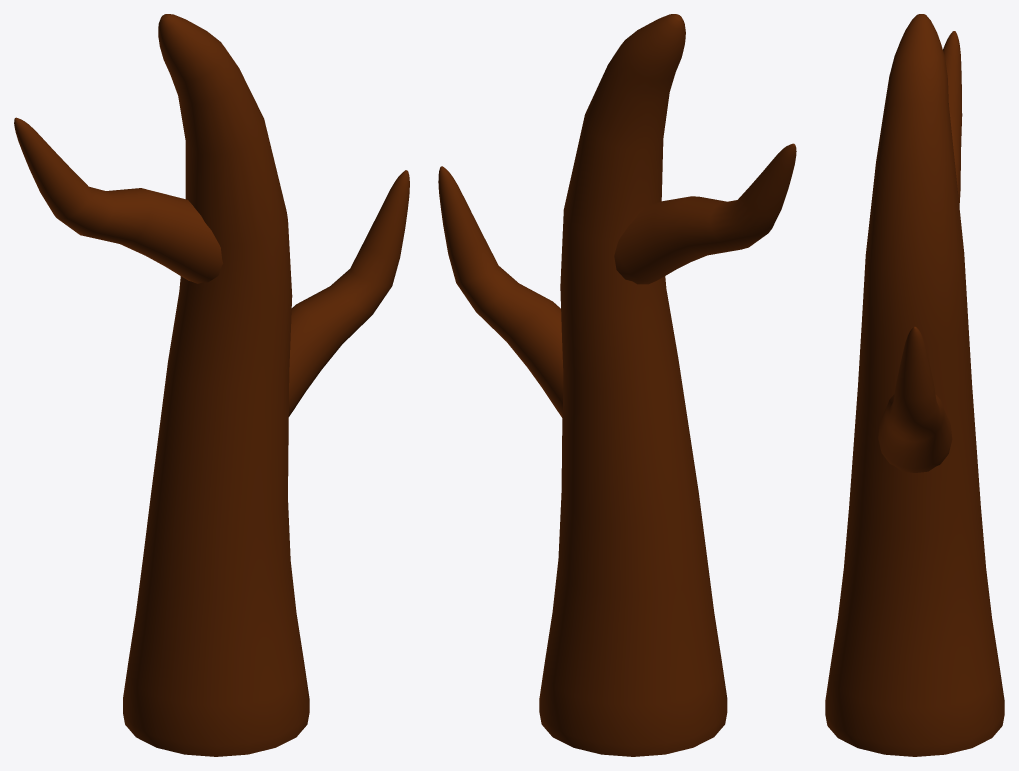
Rendered from arbre_mort_02.fbx.
3 views of the same model, side by side, from view 1: azimuth 30°, elevation 25°; view 2: azimuth 150°, elevation 25°; view 3: azimuth 270°, elevation 25° (orthographic). The views are drawn at different scales.
Visible parts, largest first — view 1: Tronc_low002; view 2: Tronc_low002; view 3: Tronc_low002.
Part boxes in pixels (box(x1,y1,x2,y2)): Tronc_low002: box(14, 14, 409, 756); Tronc_low002: box(438, 14, 796, 756); Tronc_low002: box(825, 14, 1004, 756).
Bounding box in the file's own units: 0.5808 × 1.06 × 0.2509.
